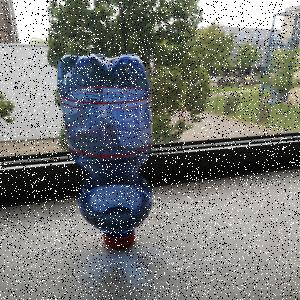Plastic-bottle: (58, 54, 155, 252)
